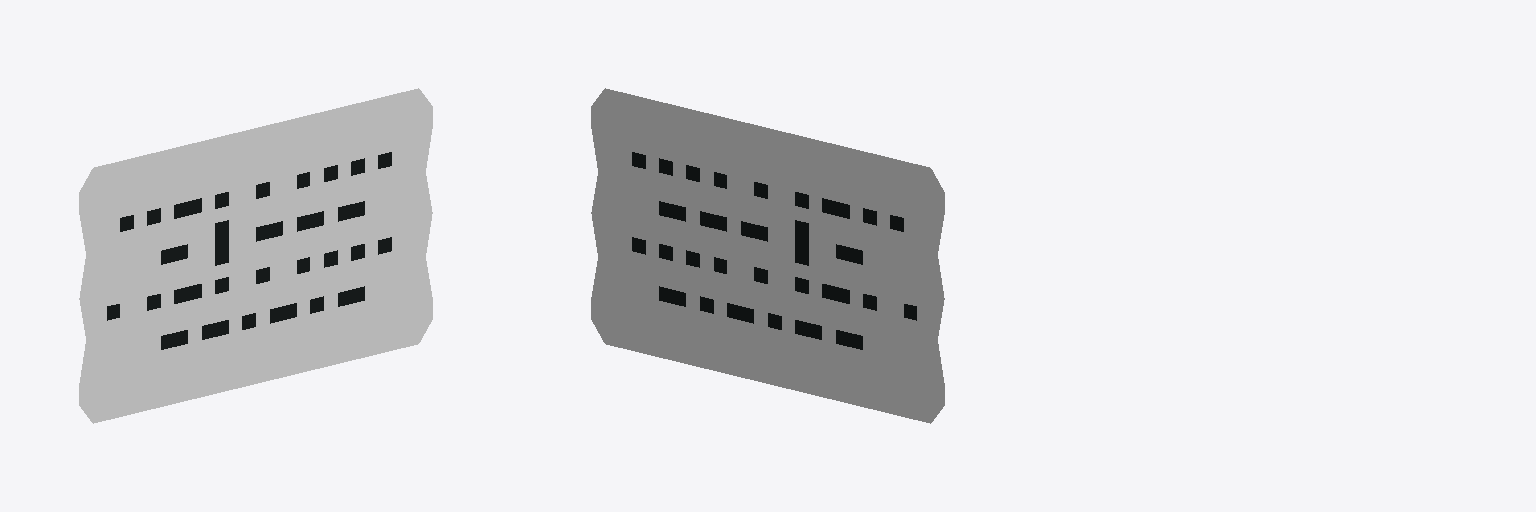
The picture shows the model from 3 angles: view 1: azimuth 30°, elevation 25°; view 2: azimuth 150°, elevation 25°; view 3: azimuth 270°, elevation 25°; orthographic projection.
Parts seen in each view (by area): view 1: plane; view 2: plane; view 3: none.
Boxes of the visible parts, x1,y1,x2,y2 form: plane: [79, 88, 432, 423]; plane: [591, 88, 944, 423].
Size of the model in its own units: 0.8125 by 0.5625 by 0.
Materials: 1 (1 with a texture image).